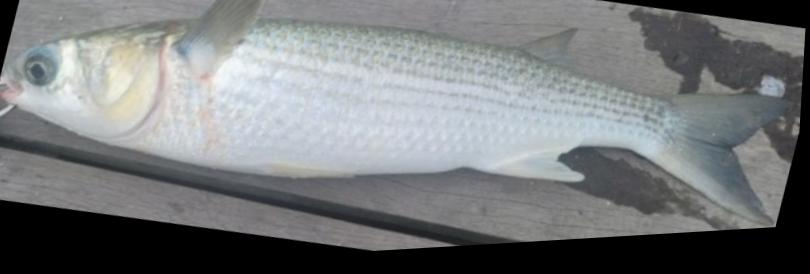fish: (0, 0, 791, 237)
